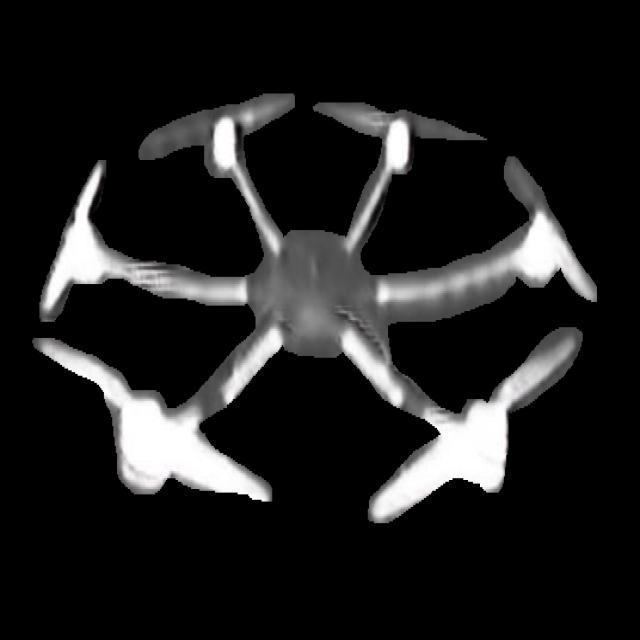drone: (17, 40, 620, 576)
